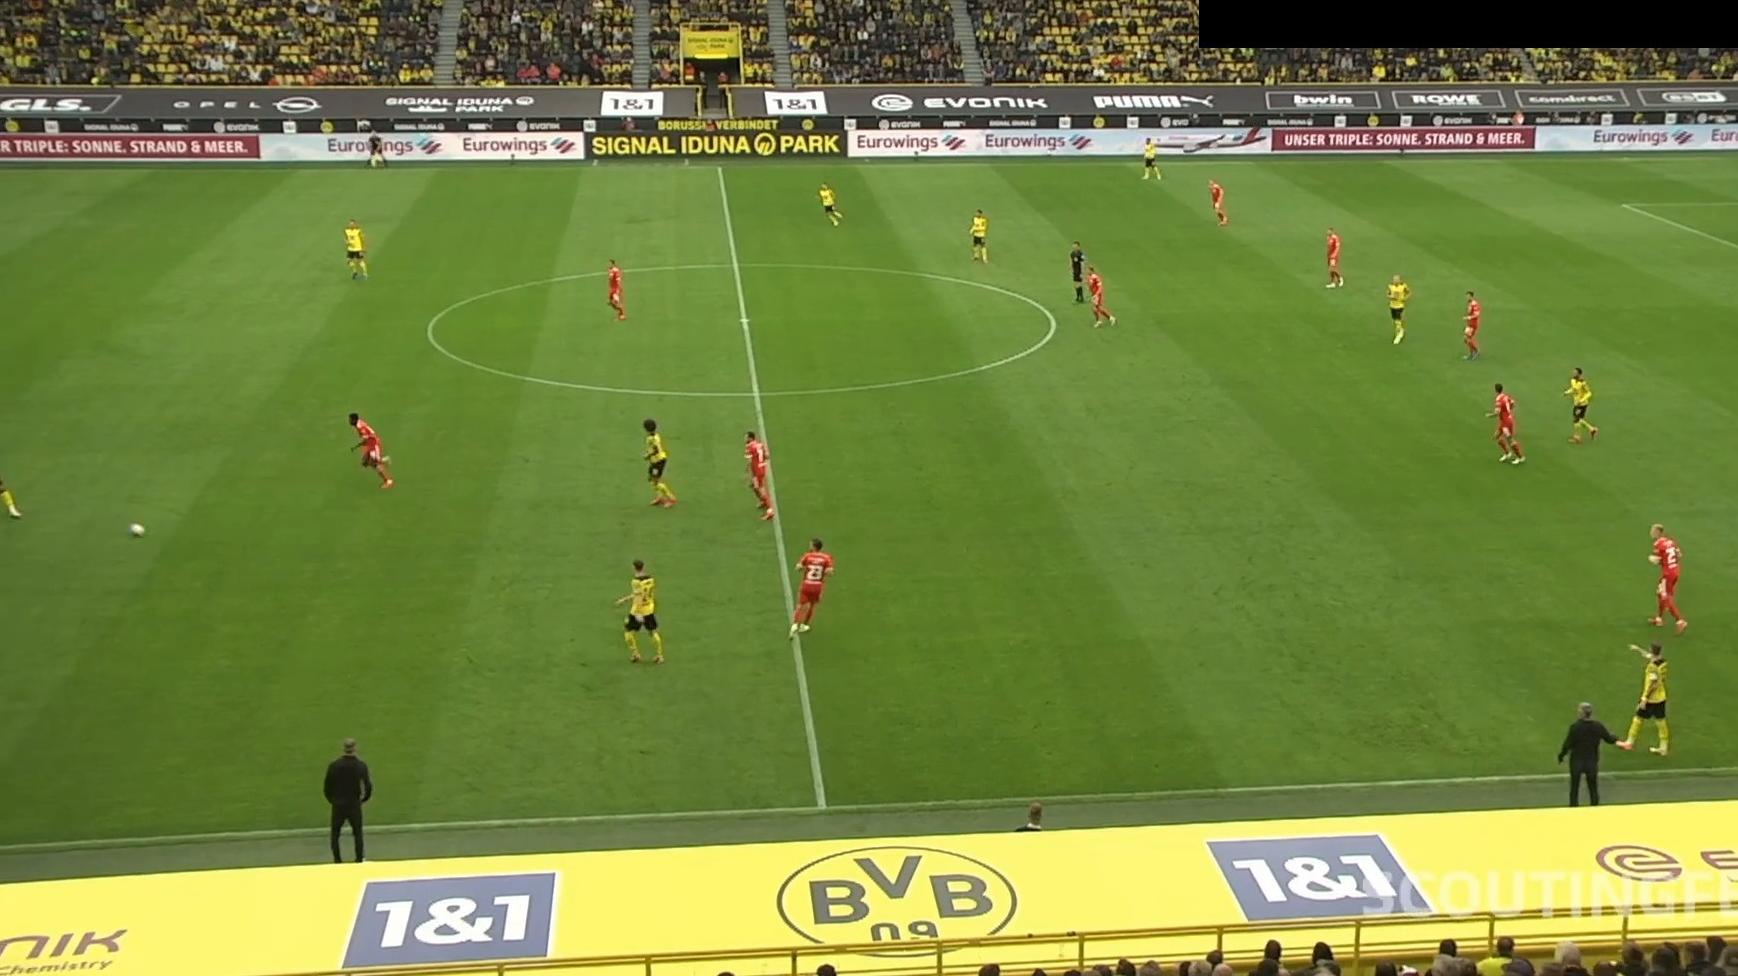ball: (127, 521, 147, 540)
